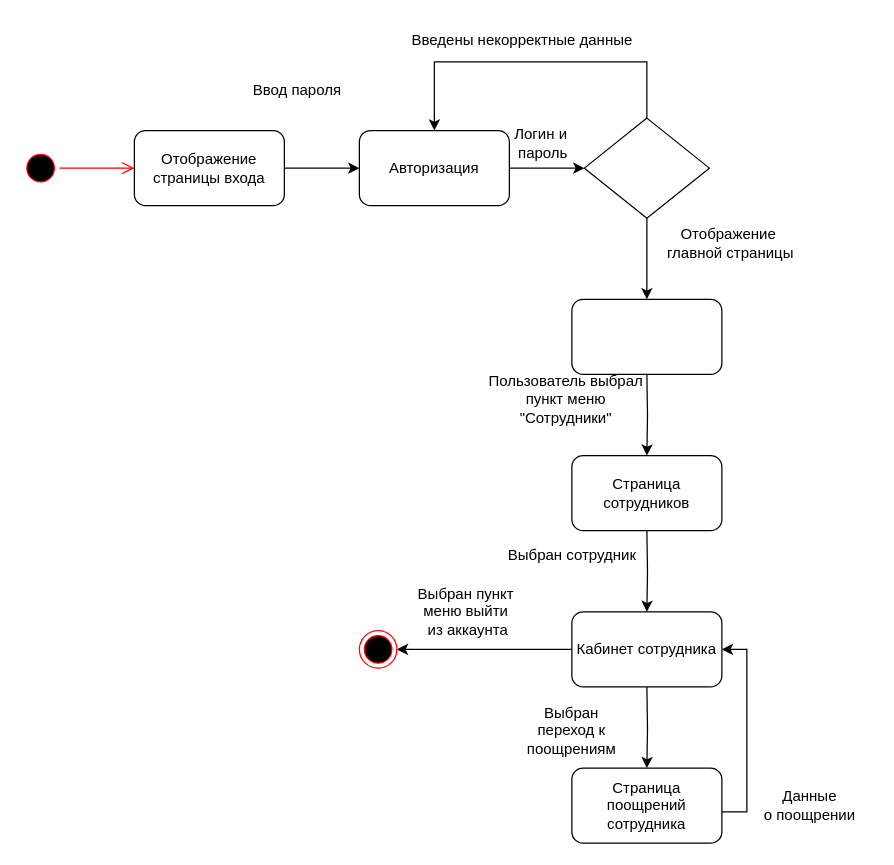
The diagram is 894 pixels wide and 865 high, and some of its shapes have lost their labels. The centre of each missing label's shape, as x and y in pixels:
Данные корректны?: the point at 646,167
Меню программы: the point at 646,336
